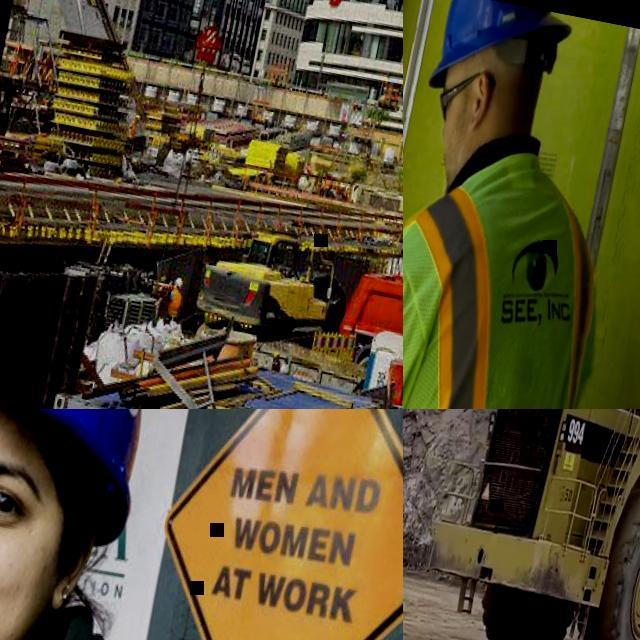Helmet: (0, 392, 167, 558), (418, 0, 582, 72)
Robbery: (408, 0, 640, 406), (0, 406, 172, 640)
